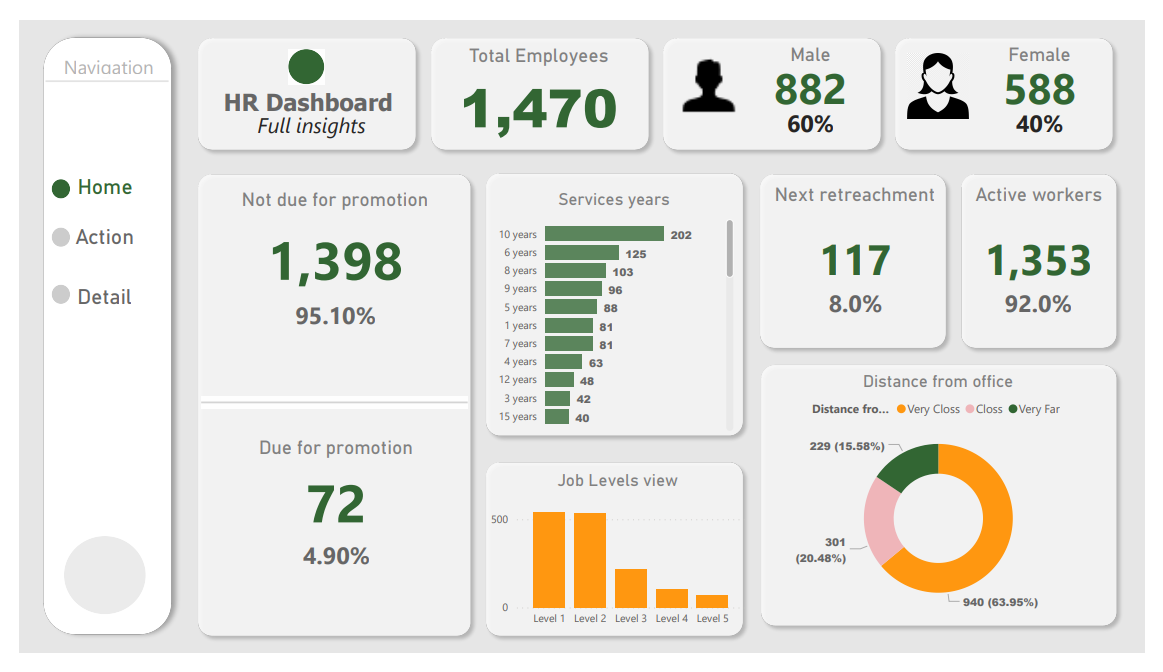

The dashboard page shown, as its layout file describes it:
{"tool":"powerbi","page":{"name":"Home","canvas":[1280,720],"ordinal":0},"visuals":[{"type":"shape","box":[16.5,9.6,166.5,699.2],"z":0},{"type":"shape","box":[195.4,12.4,264.3,143.1],"z":1000},{"type":"shape","box":[459.7,12.4,264.3,143.1],"z":2000},{"type":"shape","box":[724,12.4,264.3,143.1],"z":3000},{"type":"shape","box":[988.2,12.4,264.3,143.1],"z":4000},{"type":"shape","box":[195.4,166.5,326.2,542.3],"z":5000},{"type":"shape","box":[521.6,166.2,309.7,315.2],"z":6000},{"type":"shape","box":[521.6,494.1,309.7,214.7],"z":7000},{"type":"shape","box":[834.8,384.2,421.6,314.1],"z":8000},{"type":"shape","box":[833.6,166.7,228.3,215],"z":9000},{"type":"shape","box":[1063.1,166.7,193.3,215],"z":10000},{"type":"textbox","box":[209.7,71.2,238.7,51.4],"z":11000},{"type":"textbox","box":[36.9,33,130.5,51.4],"z":12000},{"type":"textbox","box":[209.7,97.6,251.9,55.4],"z":13000},{"type":"shape","box":[305.9,33,40.9,39.6],"z":14000},{"type":"card","title":"Total Employees","fields":{"Values":["All Measures.Total Emp"]},"box":[468,27.5,246.4,112.9],"z":15000},{"type":"card","title":"Male","fields":{"Values":["All Measures.Male"]},"box":[814.8,26.2,170.7,75.7],"z":16000},{"type":"card","fields":{"Values":["All Measures.Male %"]},"box":[834.1,90.8,132.1,55.1],"z":17000},{"type":"card","title":"Female","fields":{"Values":["All Measures.Female"]},"box":[1068.7,26.2,183.1,75.7],"z":18000},{"type":"card","fields":{"Values":["All Measures.Female %"]},"box":[1083.9,90.8,152.8,53.7],"z":19000},{"type":"image","box":[736.3,26.2,95,90.8],"z":20000},{"type":"actionButton","title":"Home","box":[27.8,176.4,140.1,30.2],"z":21000},{"type":"image","box":[1004.7,33,79.8,84],"z":22000},{"type":"actionButton","title":"Action","box":[27.7,233.4,139.8,56.7],"z":23000},{"type":"card","title":"Active workers","fields":{"Values":["All Measures.On service"]},"box":[1058.3,186,203,142.6],"z":24000},{"type":"actionButton","title":"Detail","box":[27.7,300.7,139.8,58],"z":25000},{"type":"card","fields":{"Values":["All Measures.% Active workers"]},"box":[1082.4,296,153.4,53.2],"z":26000},{"type":"card","title":"Next retreachment","fields":{"Values":["All Measures.Due for retirment"]},"box":[843.2,186,215,142.6],"z":27000},{"type":"card","fields":{"Values":["All Measures.%Due for retirment"]},"box":[865,296,171.5,53.2],"z":28000},{"type":"columnChart","title":"Job Levels view","fields":{"Category":["HR Analytics Data.Job Level"],"Y":["All Measures.Total Emp"]},"box":[531.3,512,300,185.8],"z":29000},{"type":"barChart","title":"Services years","fields":{"Category":["HR Analytics Data.Total working Years"],"Y":["All Measures.Total Emp"]},"box":[536.4,192.1,280.3,280.3],"z":30000},{"type":"donutChart","title":"Distance from office","fields":{"Category":["HR Analytics Data.Distance from office"],"Y":["All Measures.Total Emp"]},"box":[840.8,399.9,408.3,282.7],"z":31000},{"type":"card","title":"Not due for promotion","fields":{"Values":["All Measures.Not Due"]},"box":[207.8,192.1,303.2,130.5],"z":32000},{"type":"card","title":"Due for promotion","fields":{"Values":["All Measures.Due for promotion"]},"box":[209,473.8,303.2,119.6],"z":33000},{"type":"shape","box":[206.6,427.7,303.2,14.5],"z":34000},{"type":"card","fields":{"Values":["All Measures.% Not due for promotion"]},"box":[283.5,309.7,152.8,53.7],"z":35000},{"type":"card","fields":{"Values":["All Measures.% Due for promotion"]},"box":[285.1,582.5,152.2,53.2],"z":36000},{"type":"shape","box":[36.9,180.7,21.1,22.4],"z":37000},{"type":"shape","box":[36.9,236,21.1,22.4],"z":38000},{"type":"shape","box":[36.9,300.7,21.1,22.4],"z":39000},{"type":"shape","box":[51.4,586.8,92.3,89.7],"z":40000},{"type":"shape","box":[30.2,61.6,140.1,15.7],"z":41000}]}

Visuals, with their boxes in screenshot pixels (x1, y1, x2, y2), scaled from the page's 1280x720 canvas onto the 1163x672 screenshot:
shape: 15, 9, 166, 662
shape: 178, 12, 418, 145
shape: 418, 12, 658, 145
shape: 658, 12, 898, 145
shape: 898, 12, 1138, 145
shape: 178, 155, 474, 662
shape: 474, 155, 755, 449
shape: 474, 461, 755, 662
shape: 758, 359, 1142, 652
shape: 757, 156, 965, 356
shape: 966, 156, 1142, 356
textbox: 191, 66, 407, 114
textbox: 34, 31, 152, 79
textbox: 191, 91, 419, 143
shape: 278, 31, 315, 68
"Total Employees" card: 425, 26, 649, 131
"Male" card: 740, 24, 895, 95
card - All Measures.Male %: 758, 85, 878, 136
"Female" card: 971, 24, 1137, 95
card - All Measures.Female %: 985, 85, 1124, 135
image: 669, 24, 755, 109
"Home" actionButton: 25, 165, 153, 193
image: 913, 31, 985, 109
"Action" actionButton: 25, 218, 152, 271
"Active workers" card: 962, 174, 1146, 307
"Detail" actionButton: 25, 281, 152, 335
card - All Measures.% Active workers: 983, 276, 1123, 326
"Next retreachment" card: 766, 174, 961, 307
card - All Measures.%Due for retirment: 786, 276, 942, 326
"Job Levels view" columnChart: 483, 478, 755, 651
"Services years" barChart: 487, 179, 742, 441
"Distance from office" donutChart: 764, 373, 1135, 637
"Not due for promotion" card: 189, 179, 464, 301
"Due for promotion" card: 190, 442, 465, 554
shape: 188, 399, 463, 413
card - All Measures.% Not due for promotion: 258, 289, 396, 339
card - All Measures.% Due for promotion: 259, 544, 397, 593
shape: 34, 169, 53, 190
shape: 34, 220, 53, 241
shape: 34, 281, 53, 302
shape: 47, 548, 131, 631
shape: 27, 57, 155, 72
